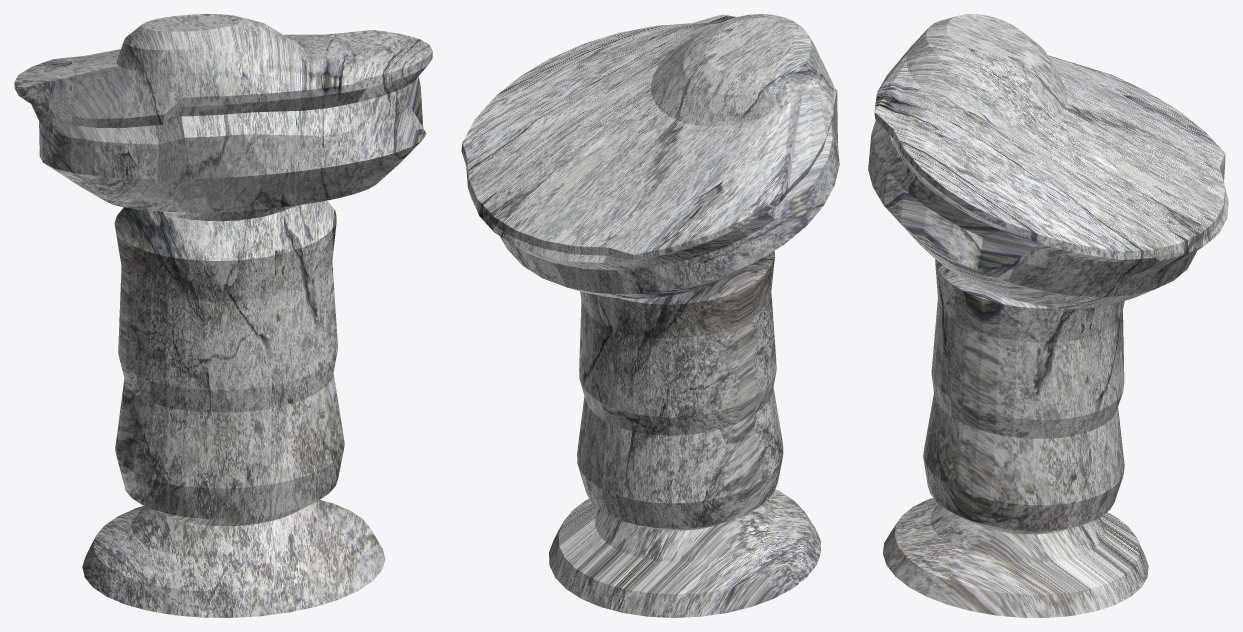
Rendered from Hongo.fbx.
The picture shows the model from 3 angles, left to right: view 1: azimuth 30°, elevation 25°; view 2: azimuth 150°, elevation 25°; view 3: azimuth 270°, elevation 25°; orthographic projection. The views are drawn at different scales.
Visible parts, largest first — view 1: Cylinder; view 2: Cylinder; view 3: Cylinder.
Part boxes in pixels (x1,y1,x2,y2): Cylinder: [14, 14, 432, 617]; Cylinder: [461, 14, 839, 617]; Cylinder: [868, 14, 1228, 617].
Bounding box in the file's own units: 622 × 969 × 612.
Materials: 1 (1 with a texture image).
